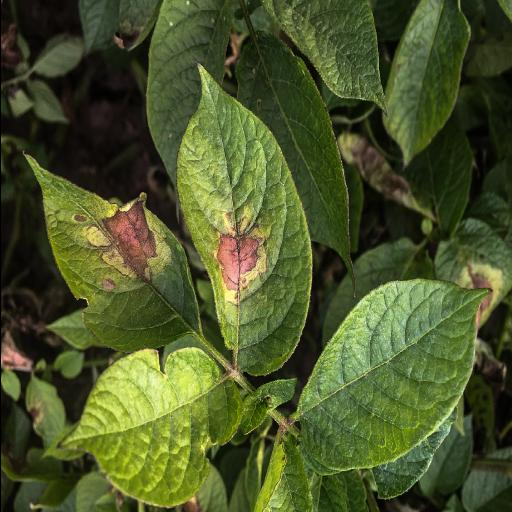disease_tomato: (183, 69, 315, 379), (20, 150, 204, 346), (430, 218, 510, 346)
